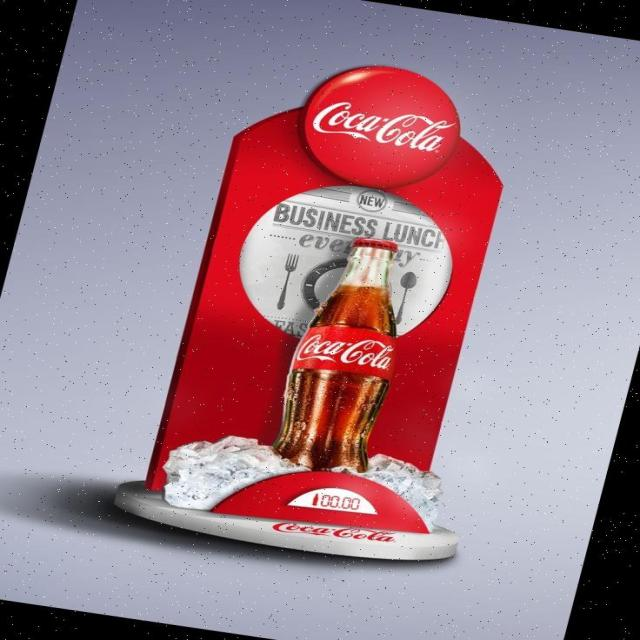coca-cola: (267, 224, 429, 481)
